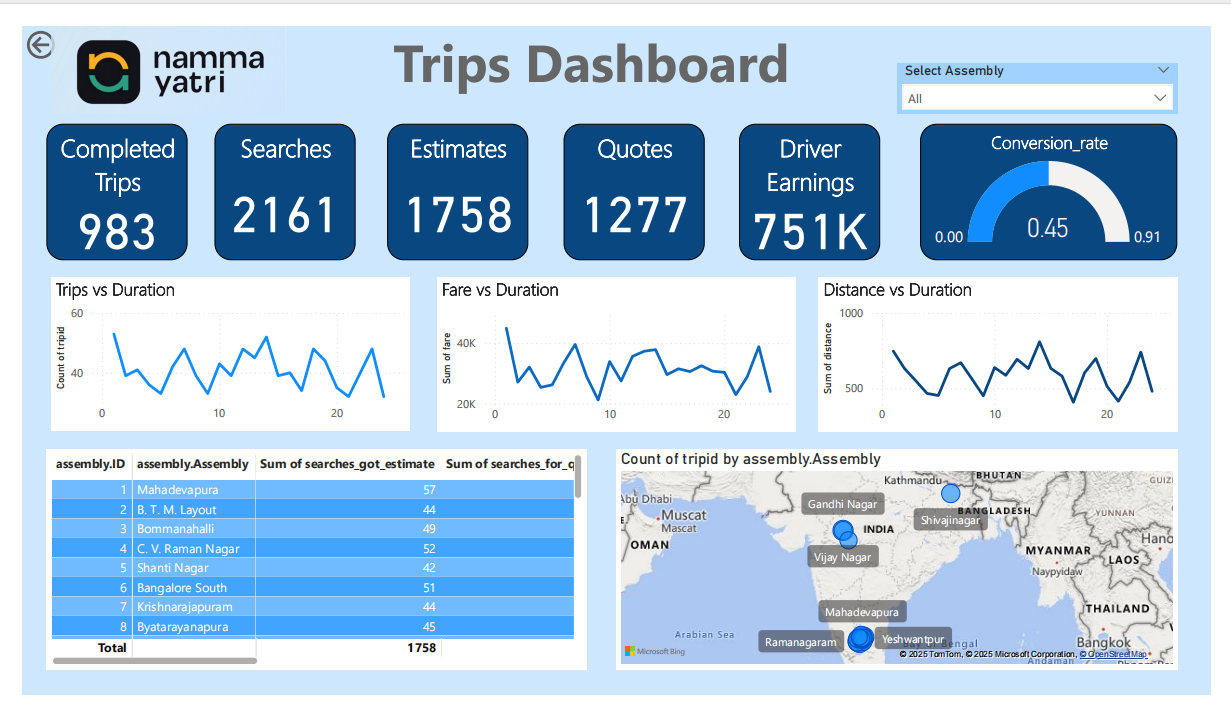

The dashboard page shown, as its layout file describes it:
{"tool":"powerbi","page":{"name":"Page 1","canvas":[1280,720],"ordinal":0},"visuals":[{"type":"card","title":"Completed Trips","fields":{"Values":["Sum(trip_details.end_ride)"]},"box":[25.8,104.6,152.2,147.3],"z":0},{"type":"card","title":"Searches","fields":{"Values":["Sum(trip_details.searches)"]},"box":[207.2,104.6,152.2,147.3],"z":1000},{"type":"card","title":"Estimates","fields":{"Values":["Sum(trip_details.searches_got_estimate)"]},"box":[393.4,104.6,152,147.3],"z":2000},{"type":"card","title":"Quotes","fields":{"Values":["Sum(trip_details.searches_got_quotes)"]},"box":[582.8,104.6,152,147.3],"z":3000},{"type":"card","title":"Driver Earnings","fields":{"Values":["Sum(trips.fare)"]},"box":[772.3,104.6,152,147.3],"z":4000},{"type":"gauge","fields":{"Y":["trip_details.Conversion_rate"]},"box":[966.8,105.3,277.6,147.1],"z":5000},{"type":"lineChart","title":"Trips vs Duration","fields":{"Category":["trips.duration"],"Y":["CountNonNull(trips.tripid)"]},"box":[31.2,270.1,386,165],"z":6000},{"type":"lineChart","title":"Fare vs Duration","fields":{"Category":["trips.duration"],"Y":["Sum(trips.fare)"]},"box":[446.7,270.1,386,165.4],"z":7000},{"type":"lineChart","title":"Distance vs Duration","fields":{"Category":["trips.duration"],"Y":["Sum(trips.distance)"]},"box":[858.4,270.1,386,165.4],"z":8000},{"type":"tableEx","fields":{"Values":["Merge1.assembly.ID","Merge1.assembly.Assembly","Sum(Merge2.searches_got_estimate)","Sum(Merge2.searches_for_quotes)","Sum(Merge2.searches_got_quotes)","Sum(Merge2.searches)","Sum(Merge2.trips.distance)","Sum(Merge2.trips.duration)","Sum(Merge2.trips.fare)","trip_details.Conversion_rate"]},"box":[25.7,455.9,582.7,237.1],"z":9000},{"type":"actionButton","box":[0,0,100,40],"z":10000},{"type":"map","fields":{"Category":["Merge1.assembly.Assembly"]},"box":[639.7,455.9,604.8,237.1],"z":11000},{"type":"slicer","fields":{"Values":["Merge1.assembly.Assembly"]},"box":[943,40.4,301.5,53.3],"z":12000},{"type":"image","box":[31.2,0,251.8,93.7],"z":13000},{"type":"textbox","box":[283,0,659.9,93.7],"z":14000}]}

Visuals, with their boxes on the page's 1280x720 design canvas (x1, y1, x2, y2). These are canvas units, not pixel positions in the 1231x717 screenshot, which may show the page scaled, cropped or inside an application window:
"Completed Trips" card: x1=26 y1=105 x2=178 y2=252
"Searches" card: x1=207 y1=105 x2=359 y2=252
"Estimates" card: x1=393 y1=105 x2=545 y2=252
"Quotes" card: x1=583 y1=105 x2=735 y2=252
"Driver Earnings" card: x1=772 y1=105 x2=924 y2=252
gauge - trip_details.Conversion_rate: x1=967 y1=105 x2=1244 y2=252
"Trips vs Duration" lineChart: x1=31 y1=270 x2=417 y2=435
"Fare vs Duration" lineChart: x1=447 y1=270 x2=833 y2=436
"Distance vs Duration" lineChart: x1=858 y1=270 x2=1244 y2=436
tableEx - Merge1.assembly.ID x Merge1.assembly.Assembly: x1=26 y1=456 x2=608 y2=693
actionButton: x1=0 y1=0 x2=100 y2=40
map - Merge1.assembly.Assembly: x1=640 y1=456 x2=1244 y2=693
slicer - Merge1.assembly.Assembly: x1=943 y1=40 x2=1244 y2=94
image: x1=31 y1=0 x2=283 y2=94
textbox: x1=283 y1=0 x2=943 y2=94
